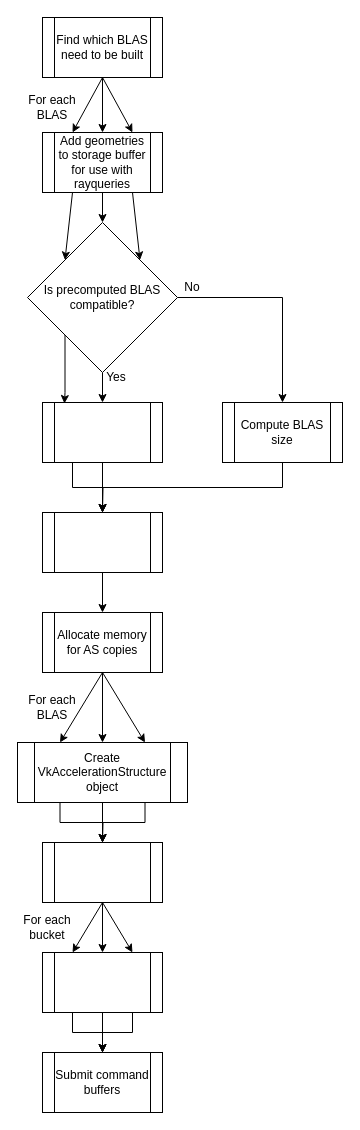
Some shapes in this 360 by 1130 pixel diagram are drawn without their labels. The shapes that lost their labels are listed below. From the top down, each one's box as (x1, y1, x2, y2) in pixels, then its label:
(42, 402, 162, 462): Read BLAS size
(42, 512, 162, 572): Allocate memory for AS storage
(42, 842, 162, 902): Allocate scratch buffer
(42, 952, 162, 1012): Record copy or build commands
